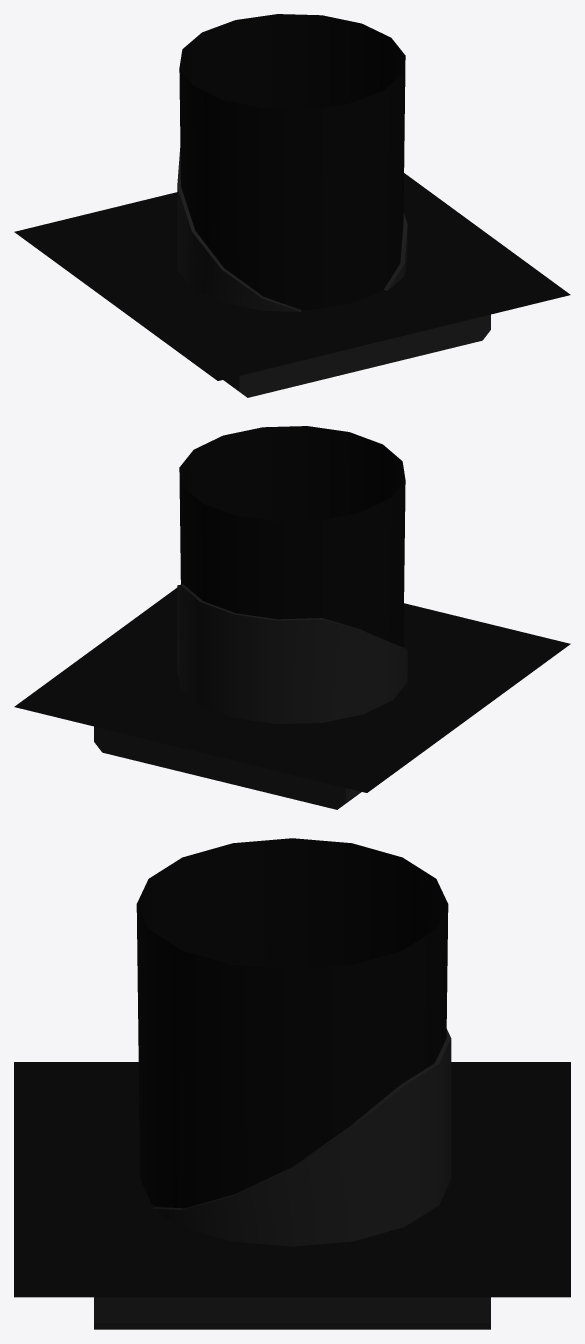
File: Light_XinHaoDeng_2X2_on.FBX
The picture shows the model from 3 angles, top to bottom: view 1: azimuth 30°, elevation 25°; view 2: azimuth 150°, elevation 25°; view 3: azimuth 270°, elevation 25°; orthographic projection. The views are drawn at different scales.
Visible parts, largest first — view 1: Box003; view 2: Box003; view 3: Box003.
Part boxes in pixels (x1,y1,x2,y2): Box003: [14, 14, 570, 397]; Box003: [14, 426, 570, 809]; Box003: [14, 838, 570, 1329].
Bounding box in the file's own units: 2.81 × 1.93 × 2.81.
